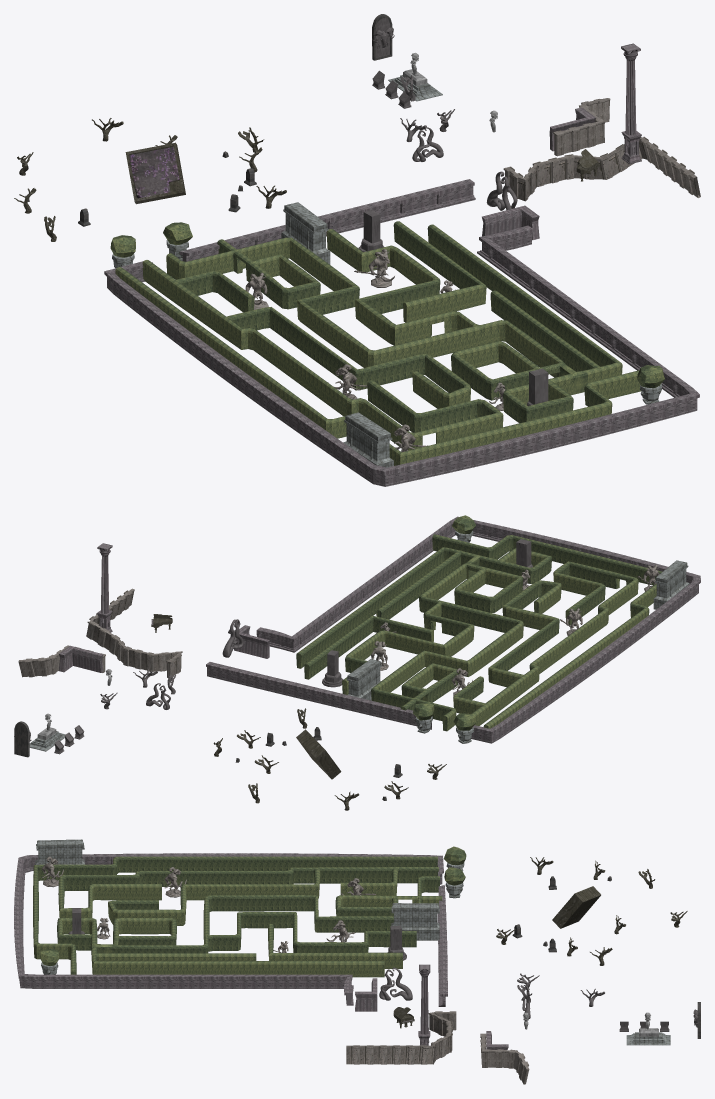
File: MapObjects_needcolliders.glb
3 views of the same model, one above another, from view 1: azimuth 30°, elevation 25°; view 2: azimuth 150°, elevation 25°; view 3: azimuth 270°, elevation 25° (orthographic). The views are drawn at different scales.
Parts seen in each view (by area): view 1: fencemaze, mazewall1, mazewall9, mazewall4, mazewall6, mazewall5, ballroomfence3, mazewall2, Cube, mazewall8, mazewall3, gardenprop2 (+7 smaller); view 2: fencemaze, mazewall1, mazewall9, mazewall6, mazewall4, mazewall5, ballroomfence3, mazewall2, mazewall8, mazewall3, gardenprop2, gardenprop (+8 smaller); view 3: mazewall1, fencemaze, mazewall9, mazewall6, mazewall4, mazewall5, ballroomfence3, mazewall8, gardenprop, mazewall2, mazewall3, gardenprop2 (+7 smaller).
Boxes of the visible parts, <box> form: fencemaze: <box>104,179,699,486</box>; mazewall1: <box>326,224,622,423</box>; mazewall9: <box>142,260,503,450</box>; mazewall4: <box>166,237,482,367</box>; mazewall6: <box>115,267,660,465</box>; mazewall5: <box>226,307,470,408</box>; ballroomfence3: <box>503,136,700,201</box>; mazewall2: <box>393,221,486,322</box>; Cube: <box>125,142,185,204</box>; mazewall8: <box>217,239,320,309</box>; mazewall3: <box>490,290,600,371</box>; gardenprop2: <box>343,412,393,467</box>; fencemaze: <box>206,516,700,743</box>; mazewall1: <box>296,547,551,694</box>; mazewall9: <box>471,561,638,725</box>; mazewall6: <box>432,534,662,728</box>; mazewall4: <box>371,600,523,731</box>; mazewall5: <box>488,580,561,687</box>; ballroomfence3: <box>86,588,182,678</box>; mazewall2: <box>304,615,433,679</box>; mazewall8: <box>400,663,458,710</box>; mazewall3: <box>376,550,461,619</box>; gardenprop2: <box>653,560,689,609</box>; gardenprop: <box>346,659,381,700</box>; mazewall1: <box>57,912,416,977</box>; fencemaze: <box>14,853,447,1006</box>; mazewall9: <box>58,867,438,918</box>; mazewall6: <box>33,856,437,974</box>; mazewall4: <box>203,876,439,951</box>; mazewall5: <box>108,868,320,925</box>; ballroomfence3: <box>346,1011,456,1064</box>; mazewall8: <box>335,895,442,916</box>; gardenprop: <box>391,903,439,940</box>; mazewall2: <box>268,924,402,968</box>; mazewall3: <box>92,953,256,961</box>; gardenprop2: <box>35,839,84,864</box>.
Size of the model in its own units: 160 by 36.11 by 219.
Materials: 9 (9 with a texture image).
